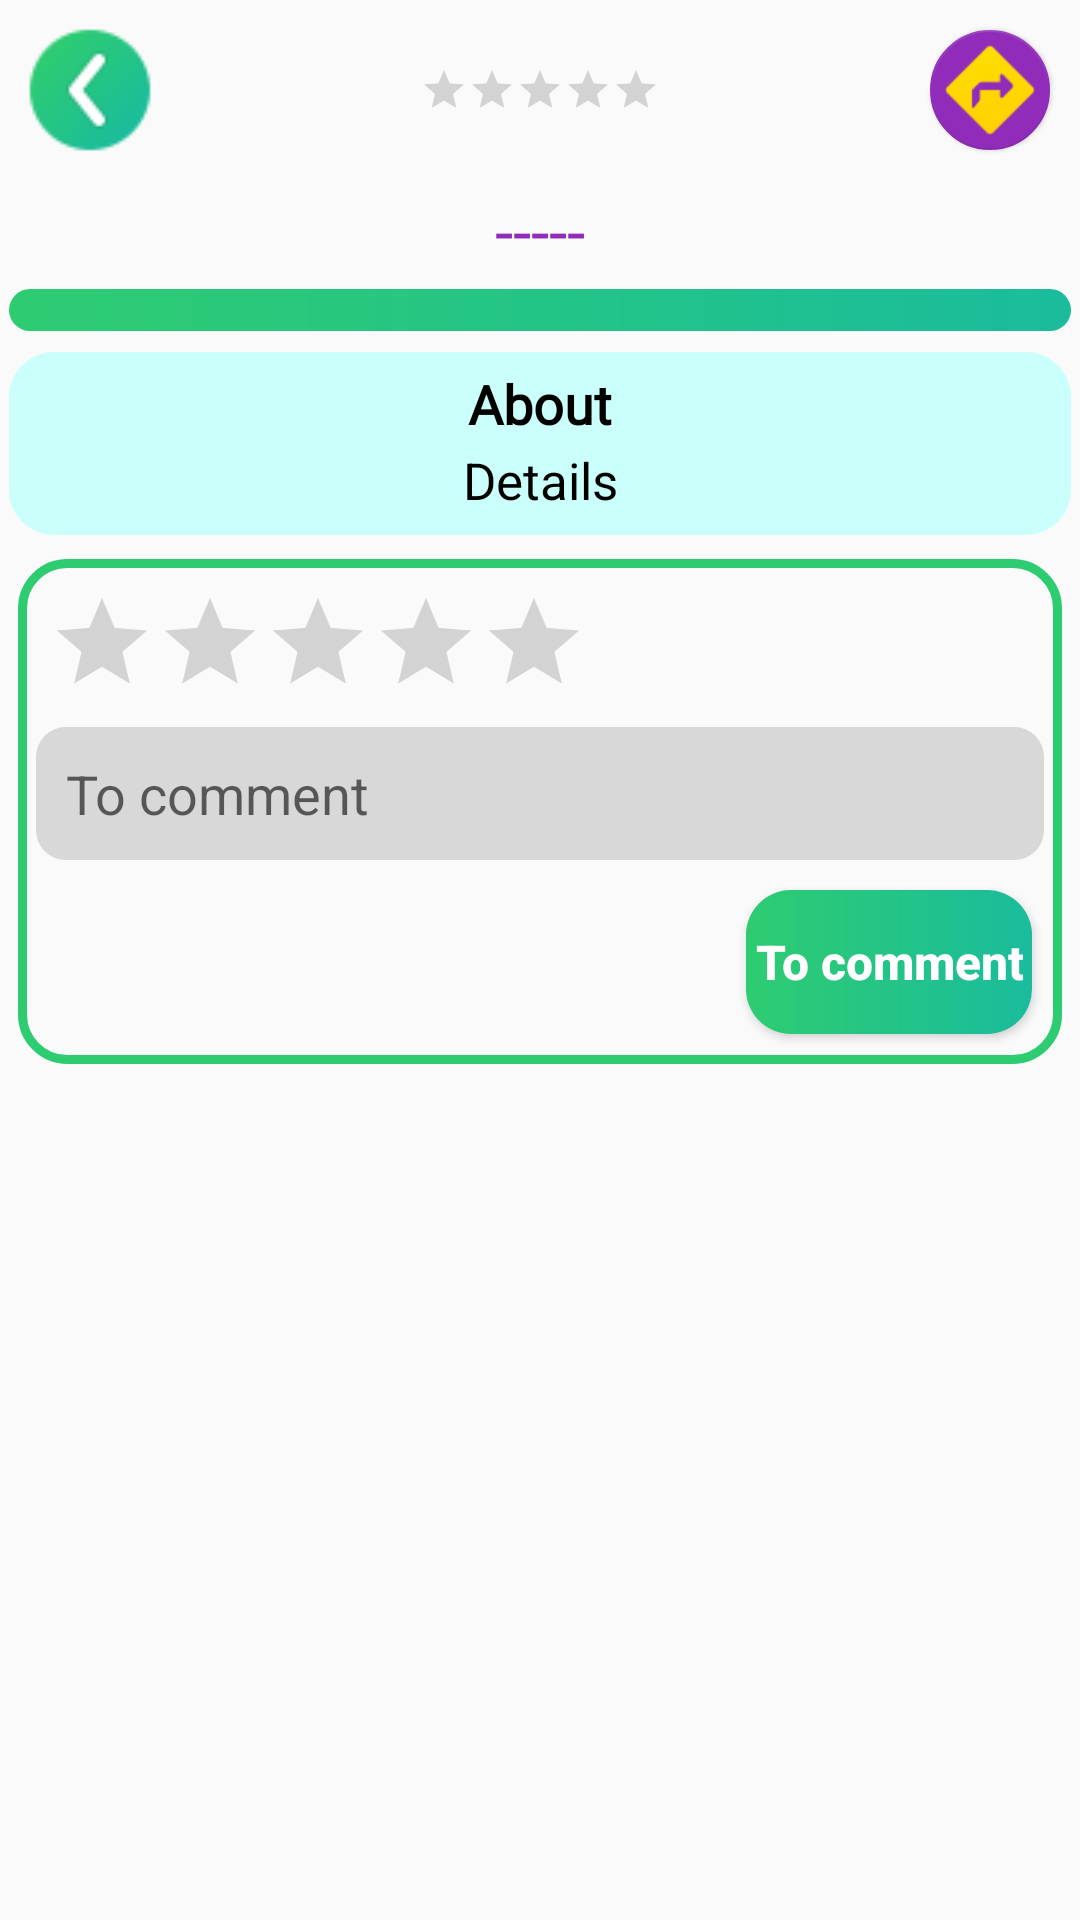

Point at icon controls on the screen. Image size 1080×1920, points as [x,y].
back: [90,90]
route: [990,90]
